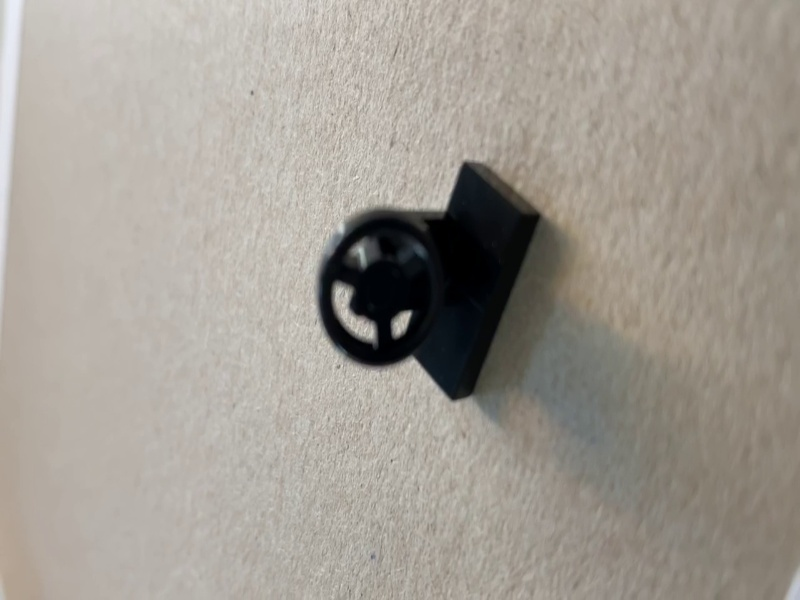steering wheel: (319, 162, 544, 405)
